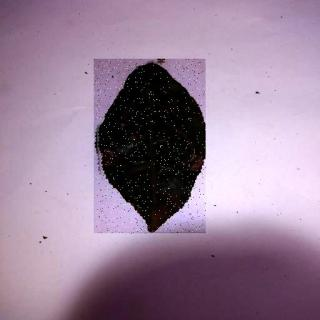Anthracnose: (95, 61, 207, 236)
